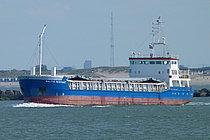Ship: (12, 37, 200, 110)
